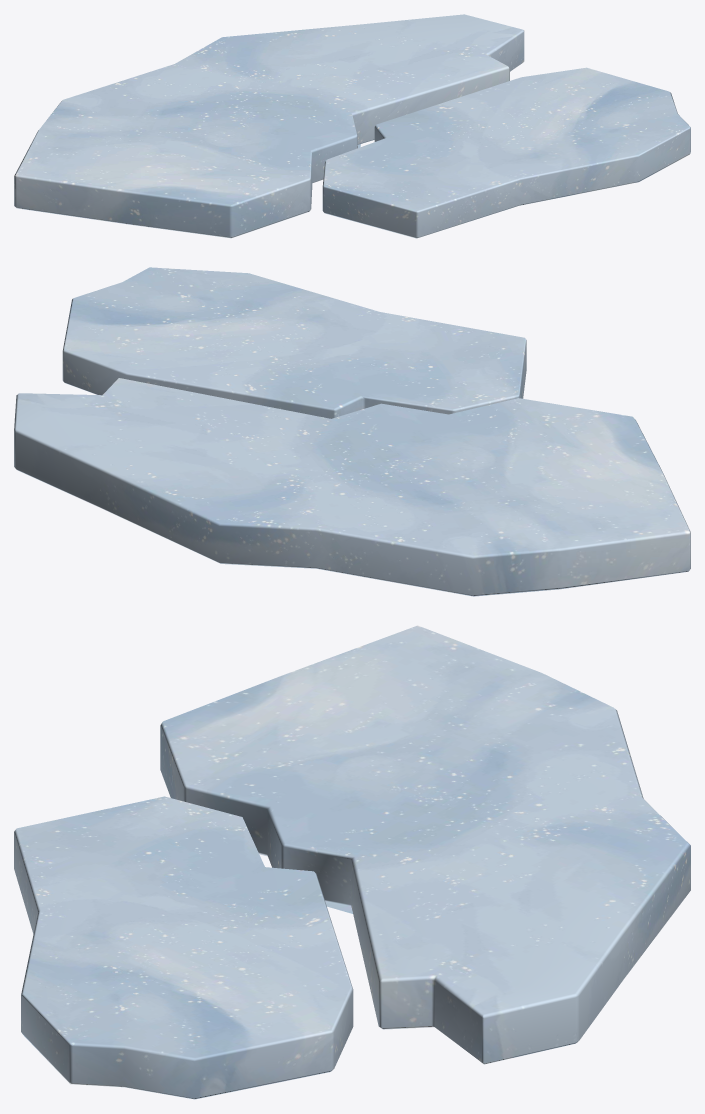
File: P_ENV_ice_03.gltf
3 views of the same model, one above another, from view 1: azimuth 30°, elevation 25°; view 2: azimuth 150°, elevation 25°; view 3: azimuth 270°, elevation 25° (orthographic). The views are drawn at different scales.
Visible parts, largest first — view 1: P_ENV_ice_03(Clone); view 2: P_ENV_ice_03(Clone); view 3: P_ENV_ice_03(Clone).
Boxes of the visible parts, <box> form: P_ENV_ice_03(Clone): <box>14,14,690,238</box>; P_ENV_ice_03(Clone): <box>14,267,690,596</box>; P_ENV_ice_03(Clone): <box>14,625,690,1099</box>.
Bounding box in the file's own units: 3.64 × 0.2074 × 2.43.
Materials: 1 (1 with a texture image).
